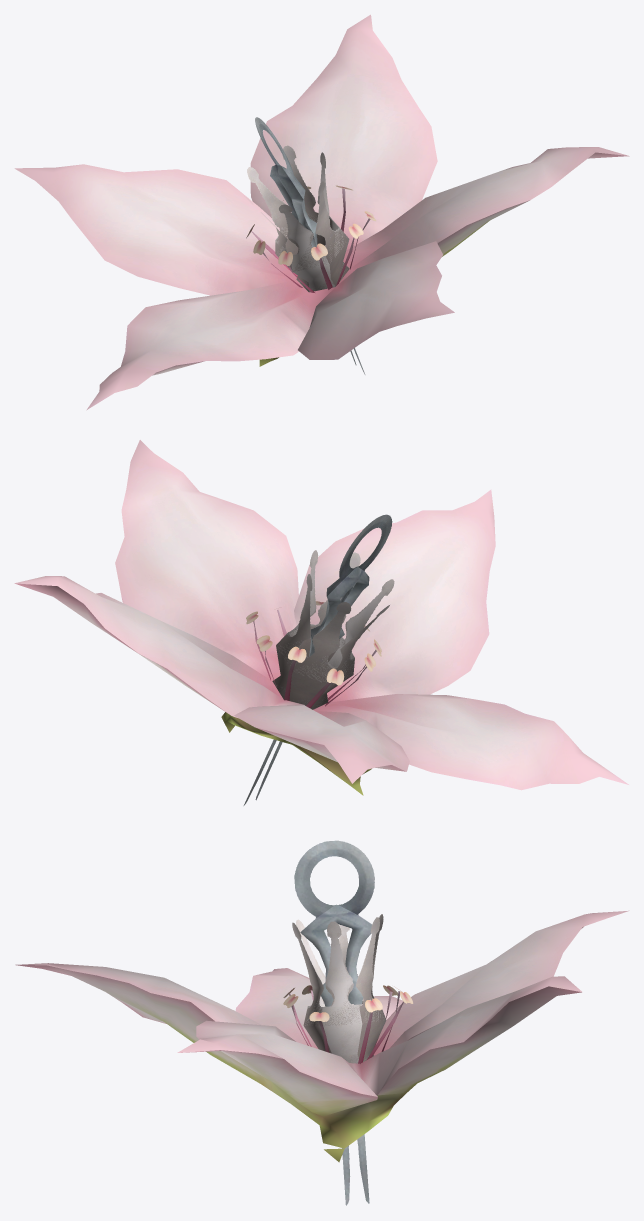
Rendered from blackflower.fbx.
3 views of the same model, one above another, from view 1: azimuth 30°, elevation 25°; view 2: azimuth 150°, elevation 25°; view 3: azimuth 270°, elevation 25° (orthographic). The views are drawn at different scales.
Parts seen in each view (by area): view 1: blackflower; view 2: blackflower; view 3: blackflower.
Boxes of the visible parts, box(x1,y1,x2,y2) form: blackflower: box(14, 14, 629, 410); blackflower: box(14, 440, 628, 805); blackflower: box(15, 840, 629, 1205).
Bounding box in the file's own units: 95.01 × 52.84 × 94.02.
